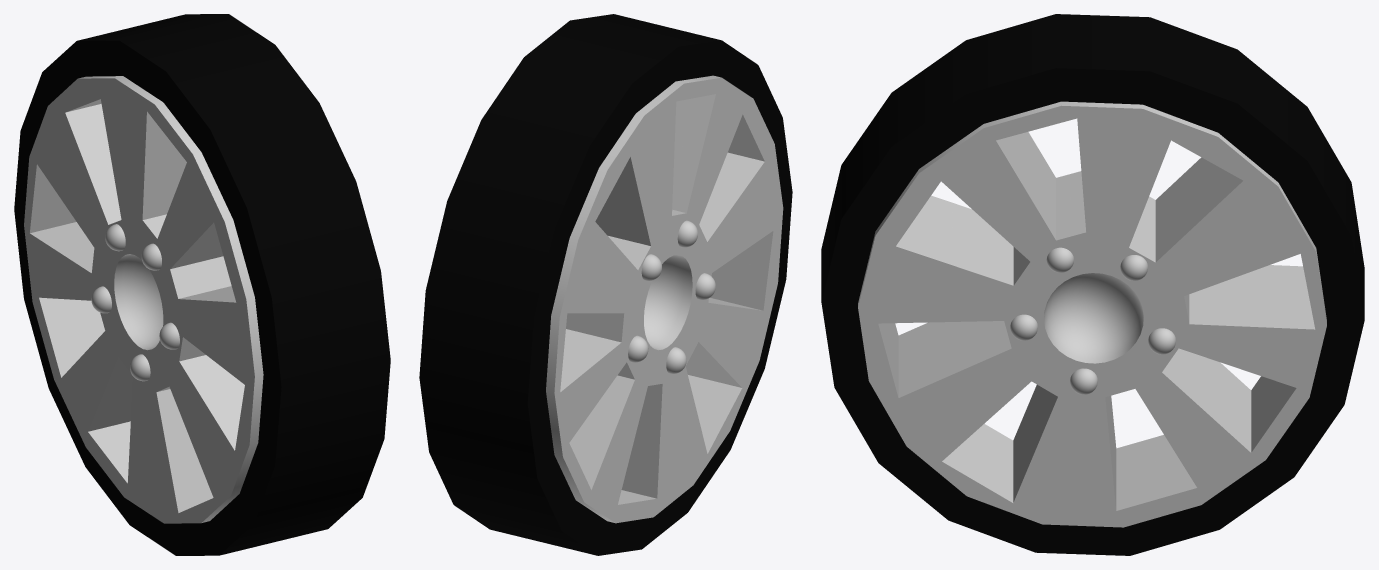
Rendered from wheel.FBX.
3 views of the same model, side by side, from view 1: azimuth 30°, elevation 25°; view 2: azimuth 150°, elevation 25°; view 3: azimuth 270°, elevation 25° (orthographic). The views are drawn at different scales.
Parts seen in each view (by area): view 1: Tube001, Cylinder001; view 2: Tube001, Cylinder001; view 3: Cylinder001, Tube001.
Part boxes in pixels (x1,y1,x2,y2): Tube001: (14,14,390,555); Cylinder001: (24,76,263,523); Tube001: (419,14,792,555); Cylinder001: (546,75,783,523); Cylinder001: (858,101,1326,527); Tube001: (821,14,1364,555).
Bounding box in the file's own units: 12.17 × 37.54 × 37.21.
Materials: 2 (2 with a texture image).
